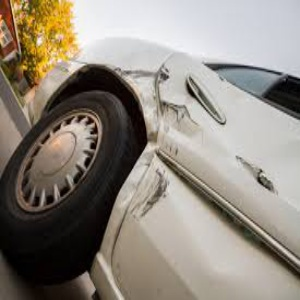door_scratch: (137, 111, 282, 242)
